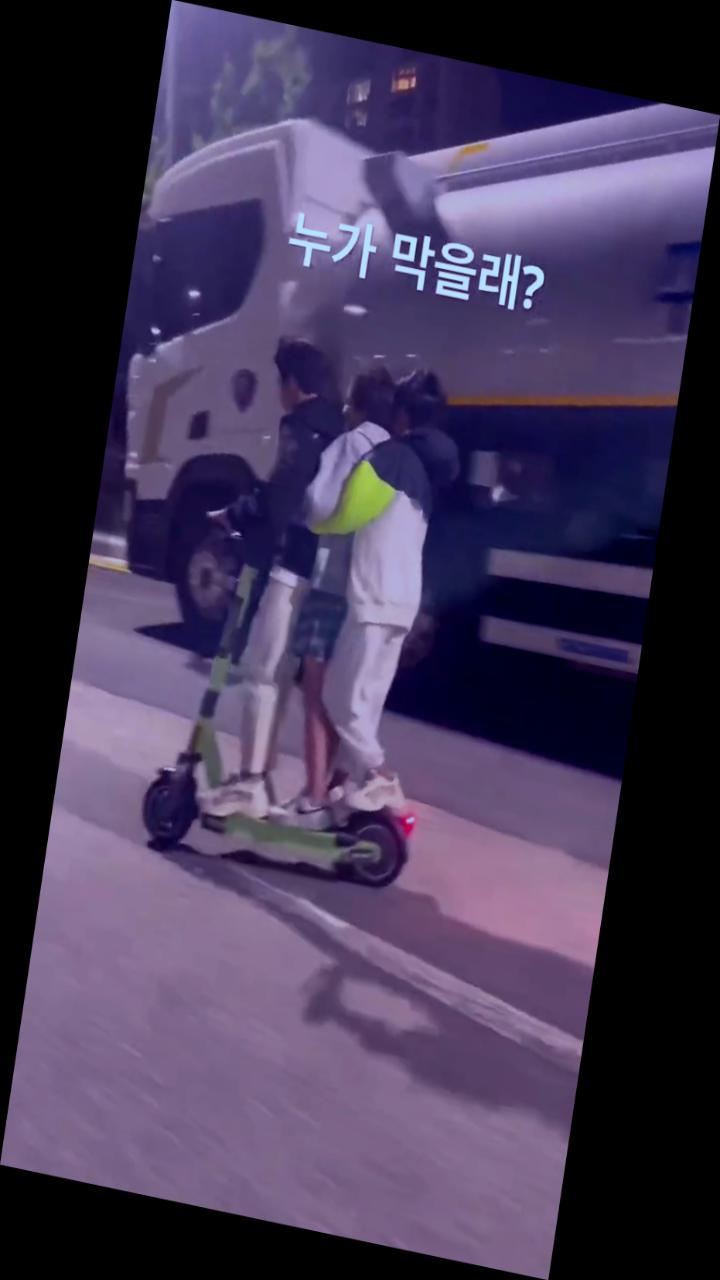multiple: (134, 313, 487, 902)
